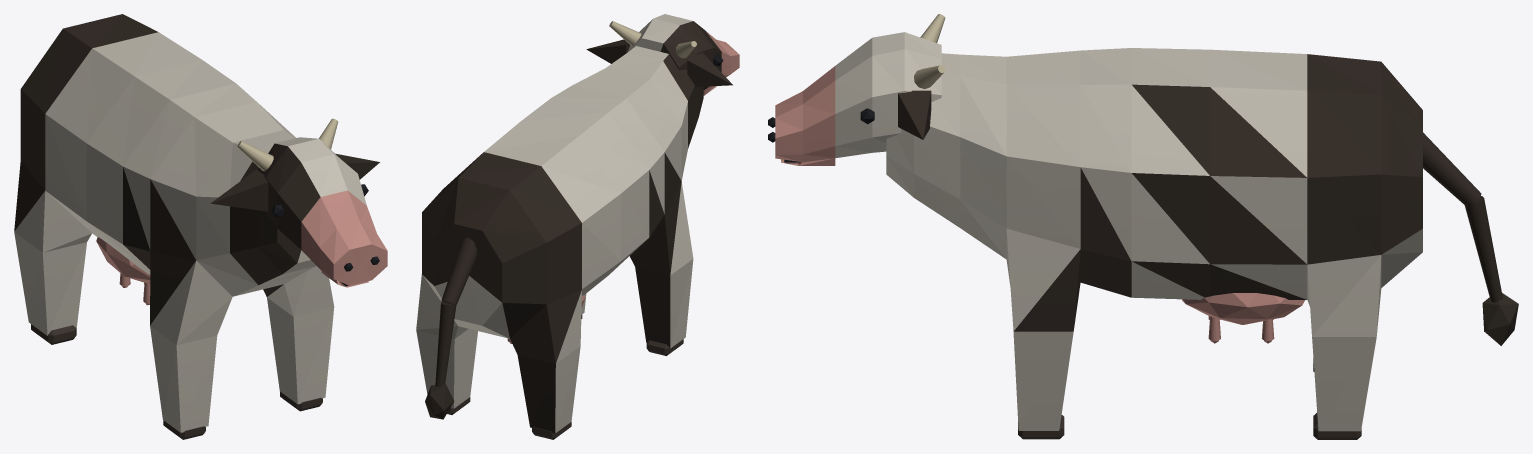
File: cow.glb
3 views of the same model, side by side, from view 1: azimuth 30°, elevation 25°; view 2: azimuth 150°, elevation 25°; view 3: azimuth 270°, elevation 25° (orthographic). The views are drawn at different scales.
Visible parts, largest first — view 1: cow; view 2: cow; view 3: cow.
Boxes of the visible parts, x1,y1,x2,y2 form: cow: [14, 14, 387, 439]; cow: [416, 14, 739, 439]; cow: [768, 14, 1518, 439].
Bounding box in the file's own units: 0.8161 × 1.47 × 2.76.
